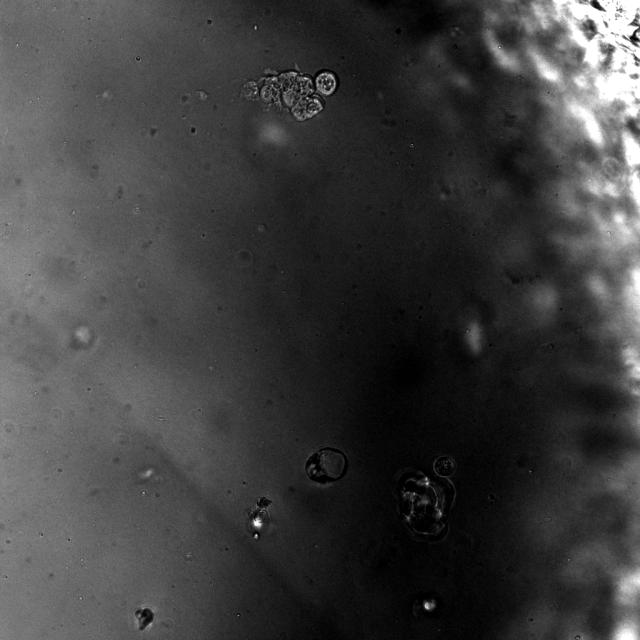organoid: (394, 455, 456, 540), (241, 69, 338, 121), (305, 446, 348, 485), (247, 496, 272, 539), (412, 593, 441, 617), (135, 607, 154, 630)
